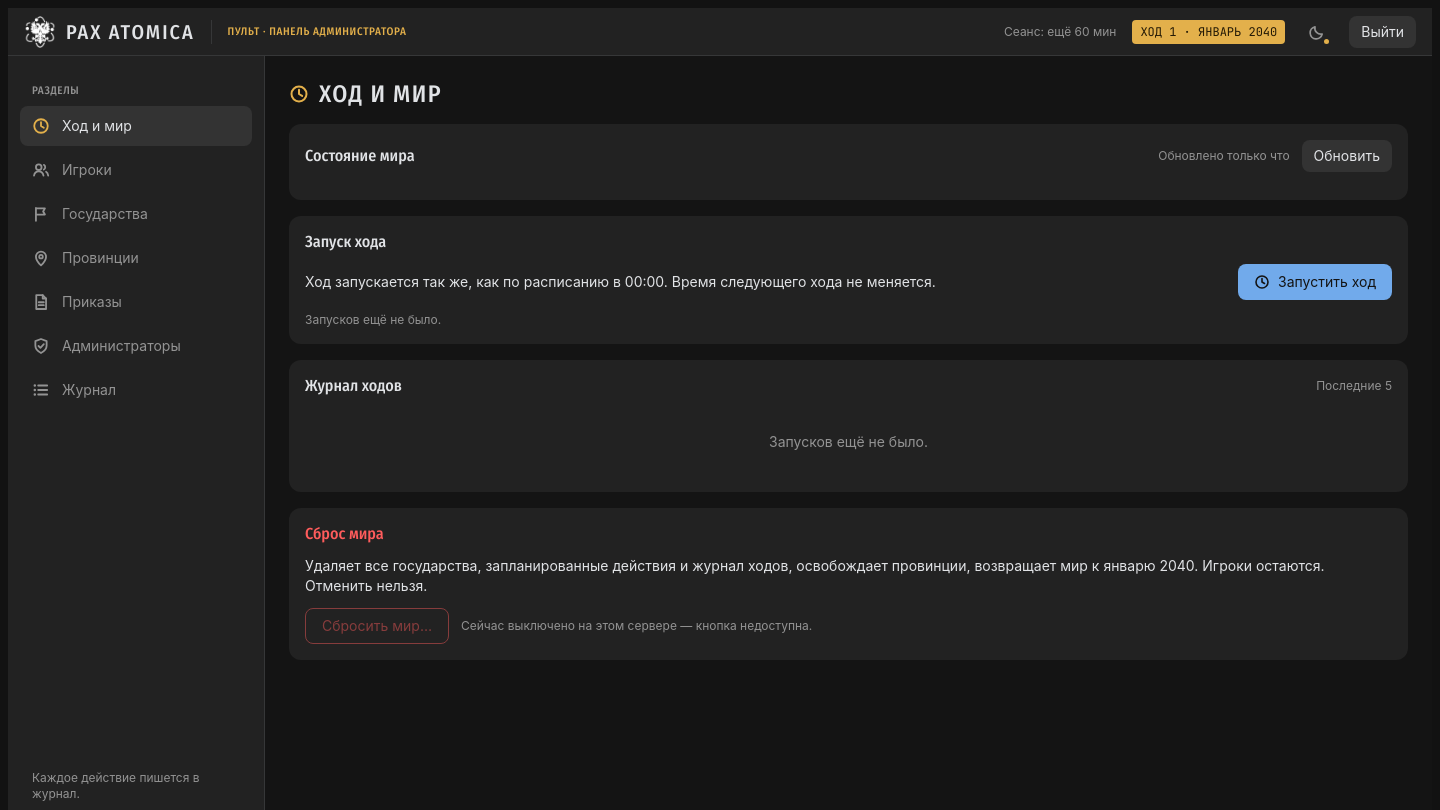
Test case: clicking a menu item changes the hash route and the shown section
Expected: the link "Ход и мир" is shown, [20,106,252,146]
Click the link "Государства" at (90, 214), box [32,205,148,223]
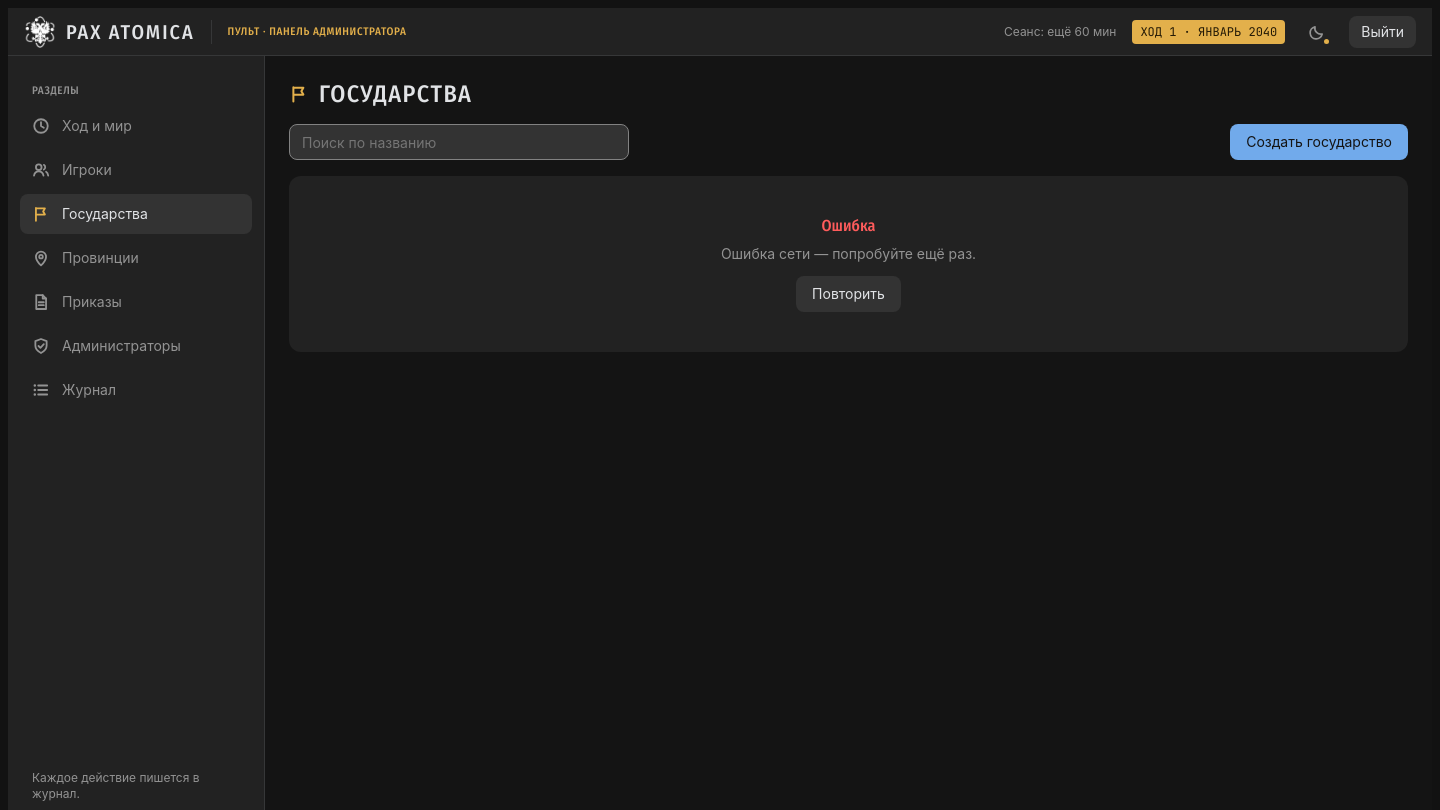
Expected: the heading "Государства" is shown, [289,80,472,108]
